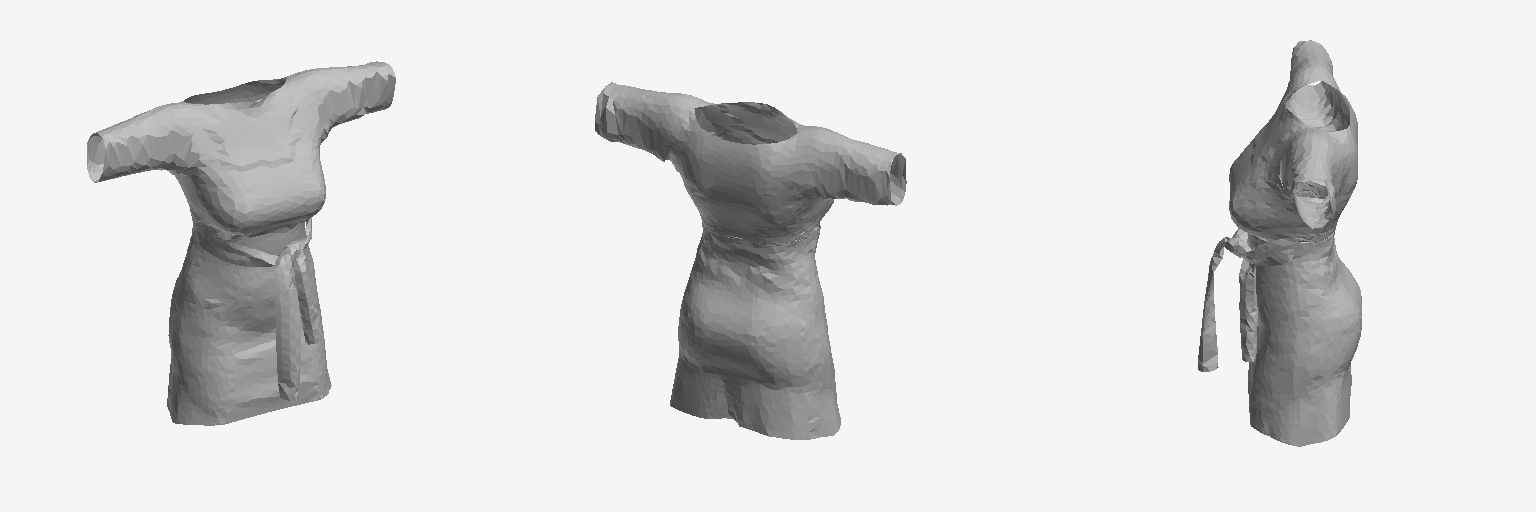
3 views of the same model, side by side, from view 1: azimuth 30°, elevation 25°; view 2: azimuth 150°, elevation 25°; view 3: azimuth 270°, elevation 25° (orthographic).
Visible parts, largest first — view 1: medium_tieDress_noinside:polySurface2 medium_tieDress_noinside:p; view 2: medium_tieDress_noinside:polySurface2 medium_tieDress_noinside:p; view 3: medium_tieDress_noinside:polySurface2 medium_tieDress_noinside:p.
Boxes of the visible parts, x1=… form: medium_tieDress_noinside:polySurface2 medium_tieDress_noinside:p: x1=87, y1=61, x2=395, y2=425; medium_tieDress_noinside:polySurface2 medium_tieDress_noinside:p: x1=595, y1=82, x2=906, y2=439; medium_tieDress_noinside:polySurface2 medium_tieDress_noinside:p: x1=1198, y1=40, x2=1361, y2=446.
Size of the model in its own units: 7.67 by 7.7 by 3.71.
Materials: 10 (1 with a texture image).